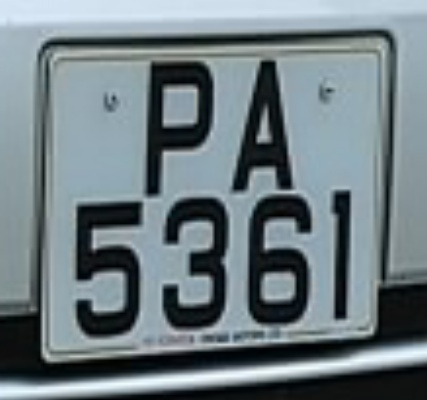1: (312, 173, 365, 337)
3: (147, 185, 245, 341)
5: (61, 185, 156, 351)
6: (233, 183, 327, 337)
A: (226, 49, 308, 196)
P: (133, 51, 226, 201)
